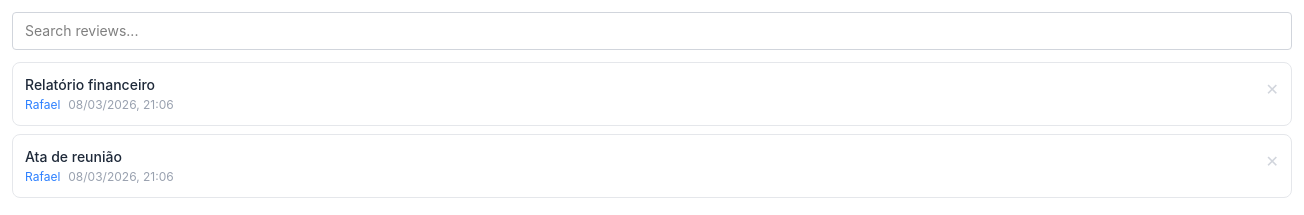
Test: ReviewHistory › filters reviews by search query
The image size is (1304, 215).
Step 1. Type "financeiro" into the field with placeholder "Search reviews..." → [652, 31], box [12,12,1292,50]
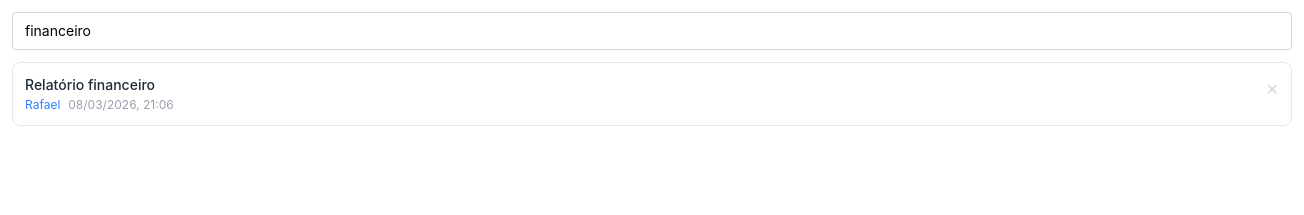
Expected: the text "Relatório financeiro" is shown, [25,76,155,93]
Now the button "Ata de reunião" is gone
